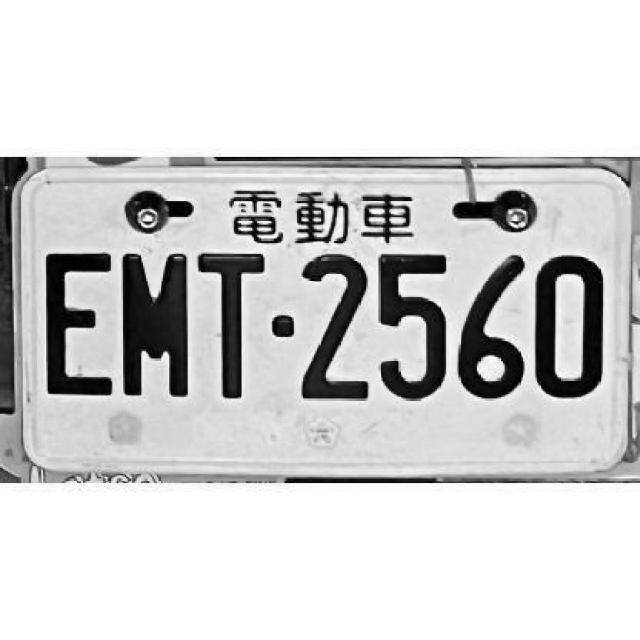-: (272, 312, 296, 340)
0: (532, 253, 606, 402)
2: (298, 254, 369, 408)
5: (377, 254, 451, 398)
6: (456, 252, 530, 405)
E: (43, 248, 117, 394)
M: (118, 252, 191, 398)
T: (197, 250, 268, 402)
